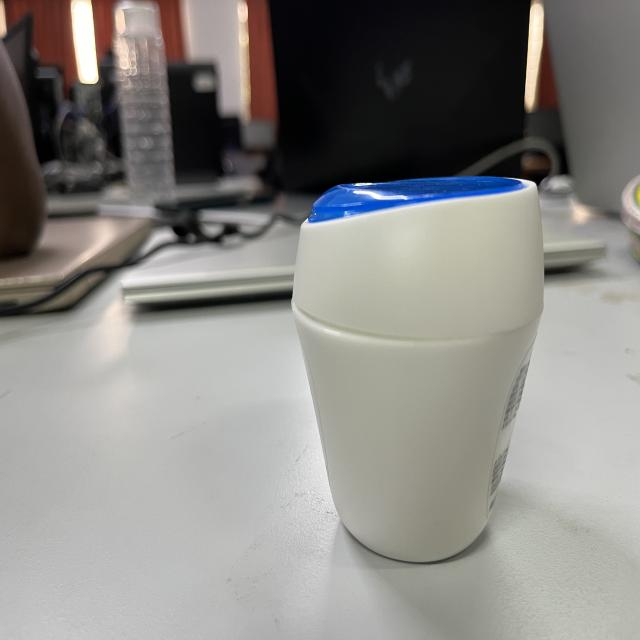L1: (288, 169, 551, 566)
